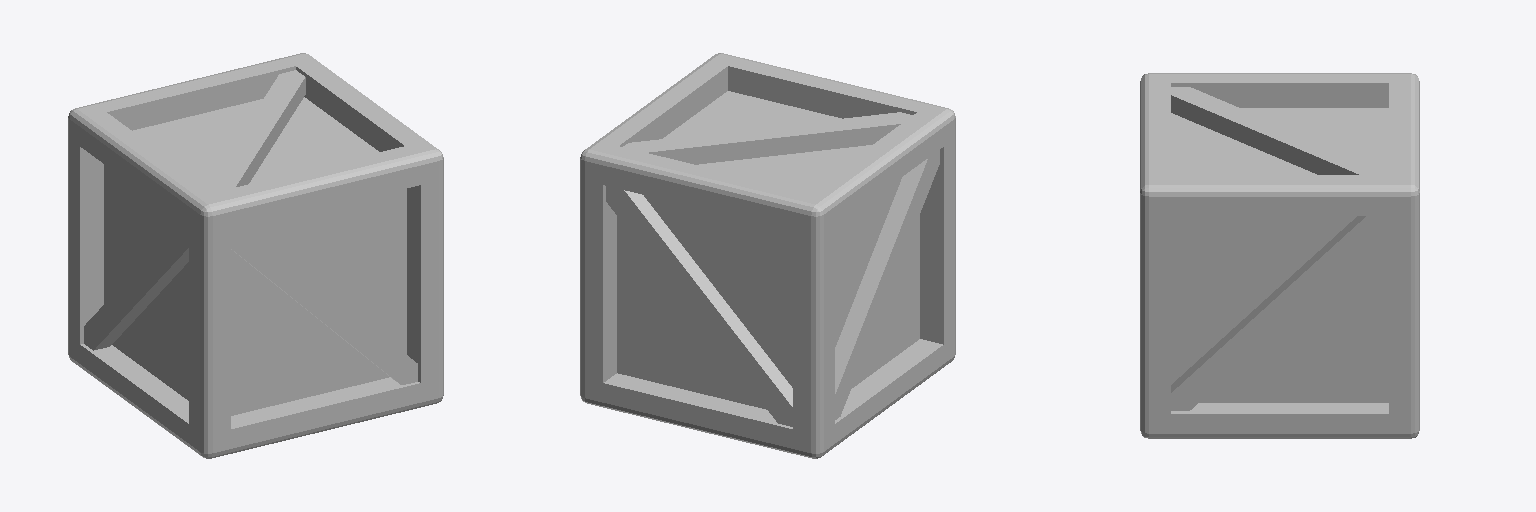
The model's file is Crate.obj.
3 renders of one model, left to right at view 1: azimuth 30°, elevation 25°; view 2: azimuth 150°, elevation 25°; view 3: azimuth 270°, elevation 25°, orthographic.
Visible parts, largest first — view 1: Crate_Cube.004, Plank3_Cube.012, Plank1_Cube.015, Plank5_Cube.017; view 2: Crate_Cube.004, Plank4_Cube.016, Plank1_Cube.015, Plank5_Cube.017; view 3: Crate_Cube.004, Plank2_Cube.008, Plank5_Cube.017.
Boxes of the visible parts, x1,y1,x2,y2 form: Crate_Cube.004: [68, 53, 443, 458]; Plank3_Cube.012: [231, 227, 417, 384]; Plank1_Cube.015: [84, 221, 188, 350]; Plank5_Cube.017: [208, 70, 305, 191]; Crate_Cube.004: [580, 53, 955, 458]; Plank4_Cube.016: [606, 186, 792, 426]; Plank1_Cube.015: [835, 150, 939, 419]; Plank5_Cube.017: [623, 112, 912, 164]; Crate_Cube.004: [1140, 73, 1419, 438]; Plank2_Cube.008: [1171, 216, 1388, 410]; Plank5_Cube.017: [1171, 87, 1388, 174].
Size of the model in its own units: 2 by 2 by 2.